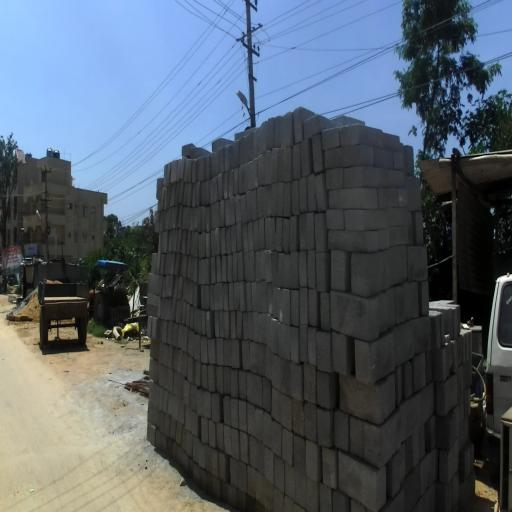street_light_0: (236, 90, 256, 126)
